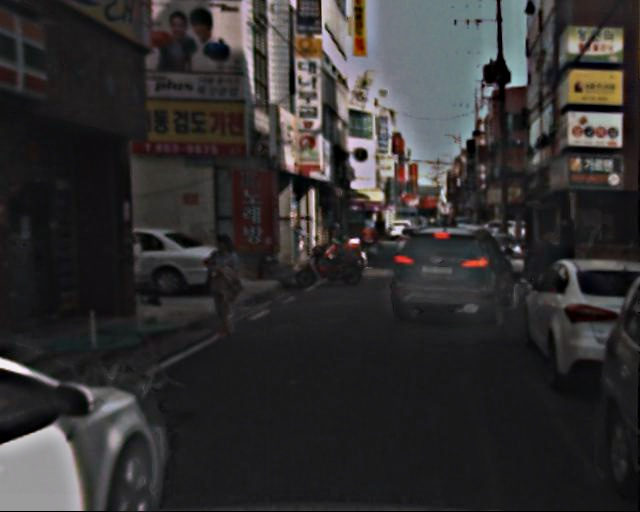person: (203, 233, 252, 339), (528, 224, 567, 312)
